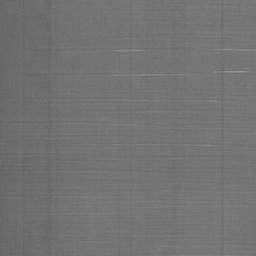Waist folding: (86, 69, 256, 78), (71, 48, 146, 54), (137, 143, 214, 148), (218, 47, 256, 53), (144, 109, 179, 114), (173, 253, 231, 256), (120, 98, 159, 102)
